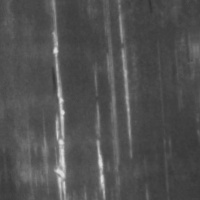scratches: (38, 4, 76, 200), (109, 0, 140, 158), (84, 70, 113, 200)
